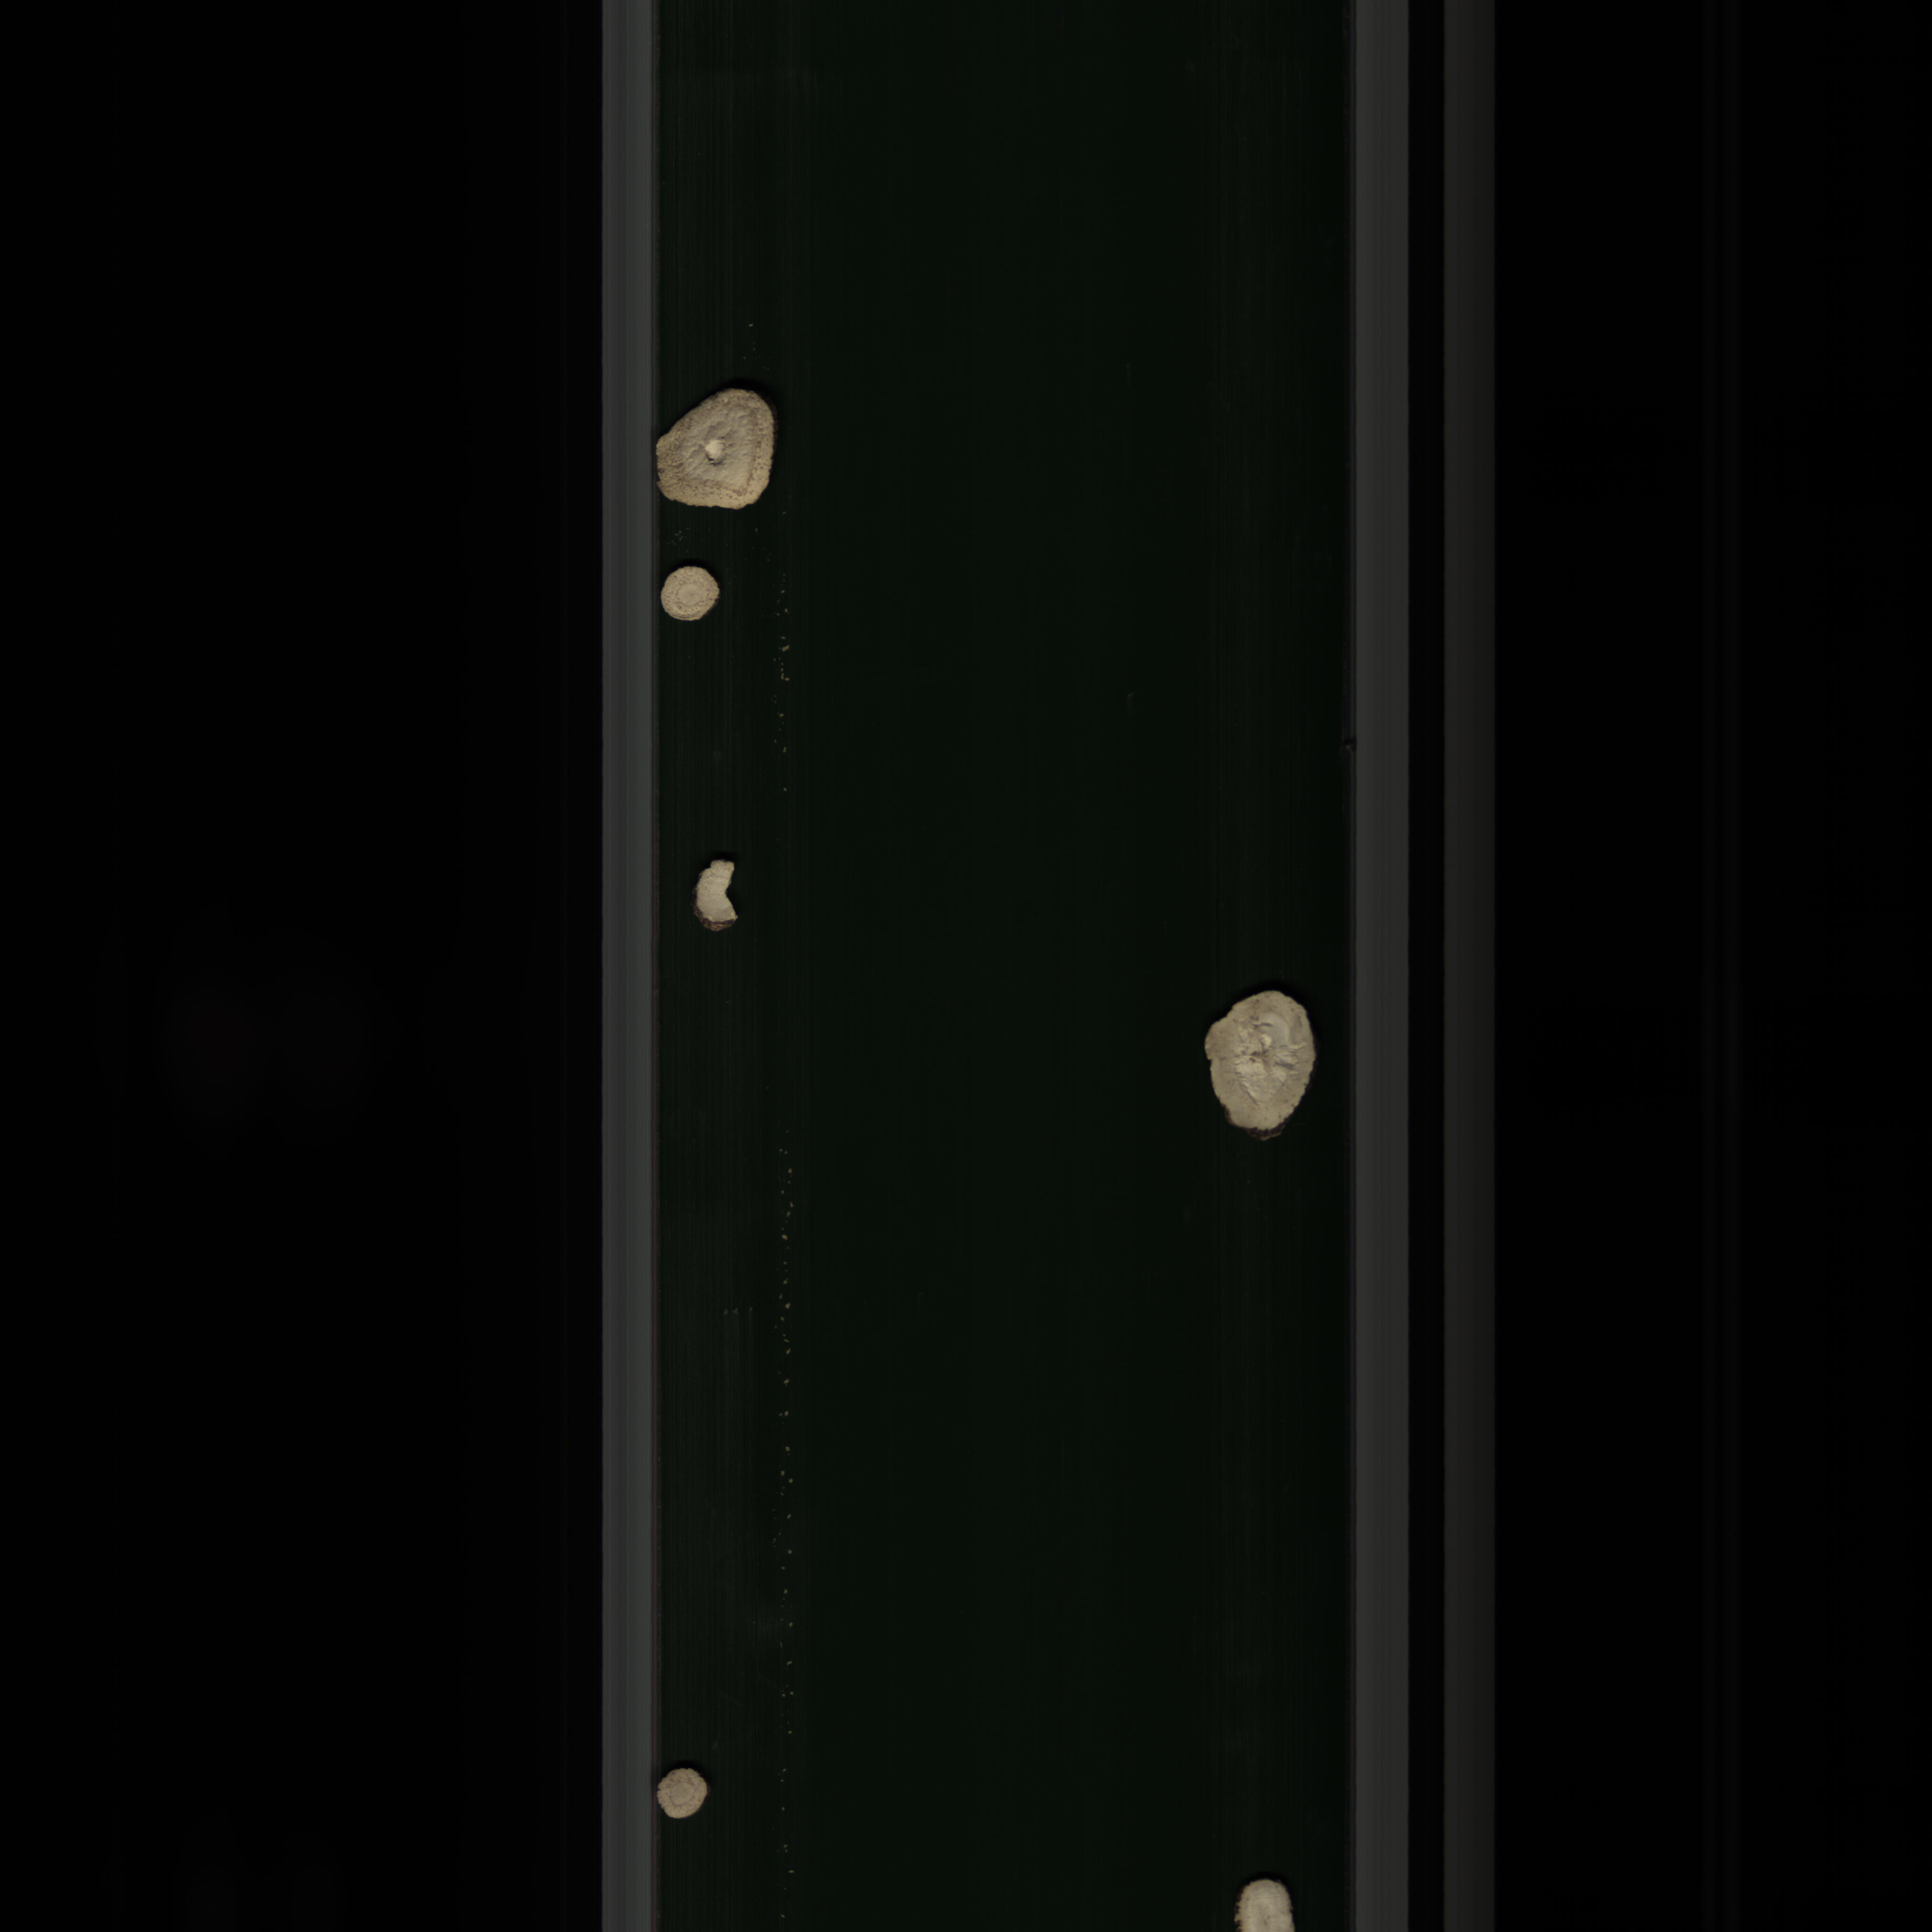debris: (688, 847, 750, 945)
